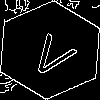V: (25, 25, 84, 82)
